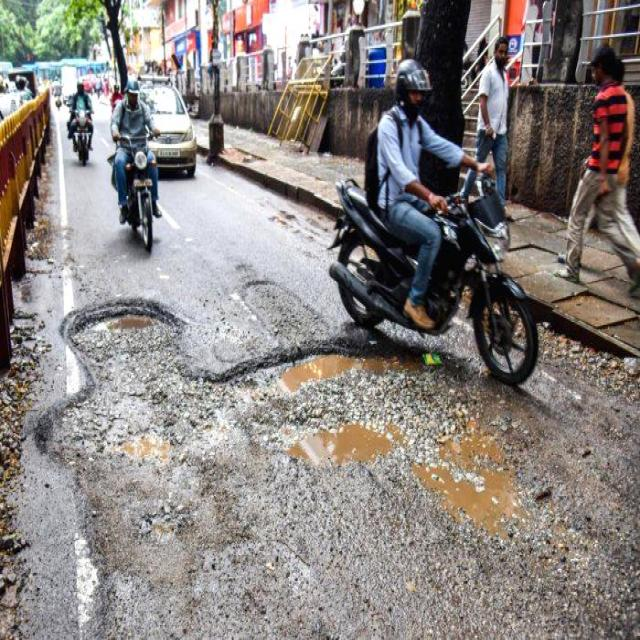pothole: (63, 288, 188, 374), (253, 346, 432, 390), (282, 417, 402, 470)
